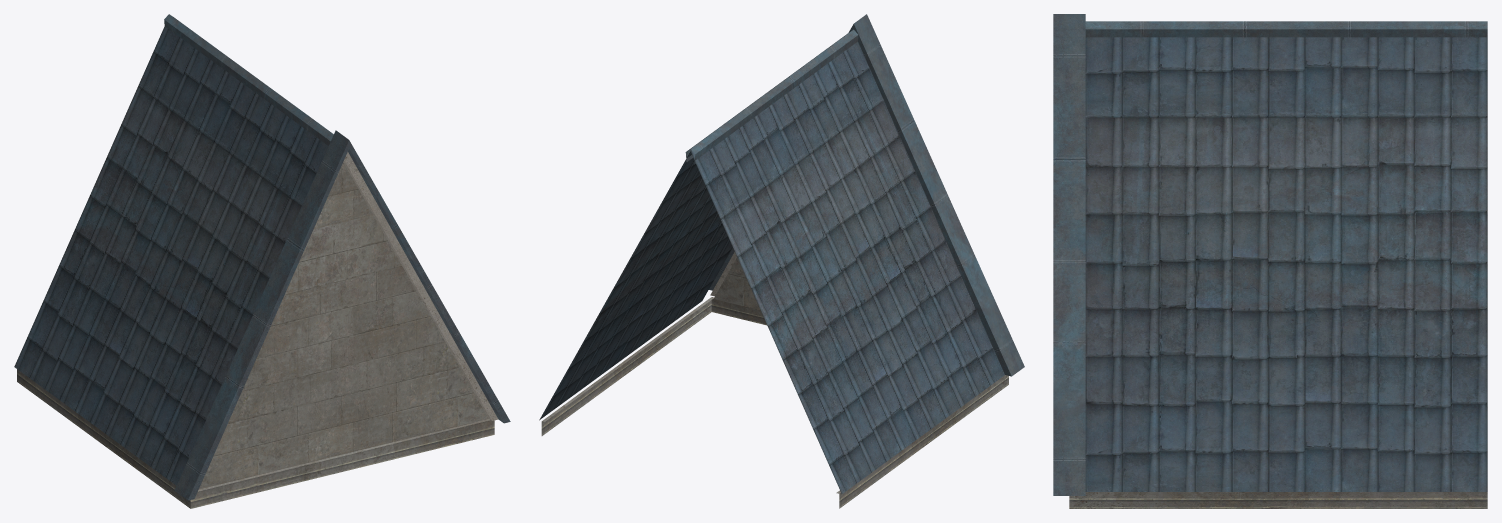
Rendered from bg_lut_lucastle_houseroof01_sm_sup.FBX.
3 views of the same model, side by side, from view 1: azimuth 30°, elevation 25°; view 2: azimuth 150°, elevation 25°; view 3: azimuth 270°, elevation 25° (orthographic). The views are drawn at different scales.
Parts seen in each view (by area): view 1: bg_lut_lucastle_houseroof01_sm_sup; view 2: bg_lut_lucastle_houseroof01_sm_sup; view 3: bg_lut_lucastle_houseroof01_sm_sup.
Boxes of the visible parts, x1=… form: bg_lut_lucastle_houseroof01_sm_sup: x1=14, y1=14, x2=510, y2=508; bg_lut_lucastle_houseroof01_sm_sup: x1=539, y1=14, x2=1024, y2=508; bg_lut_lucastle_houseroof01_sm_sup: x1=1053, y1=14, x2=1487, y2=508.
Size of the model in its own units: 259 by 258 by 250.
